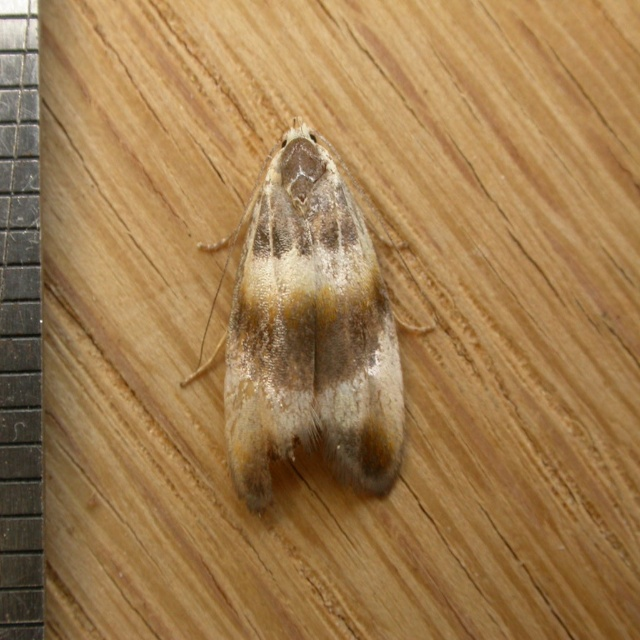Moths and butterflies: (175, 111, 441, 517)
